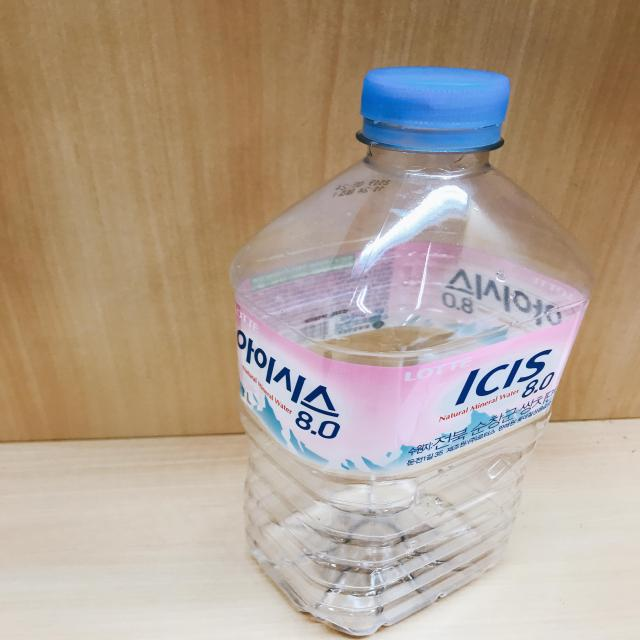bottle: (228, 55, 607, 638)
